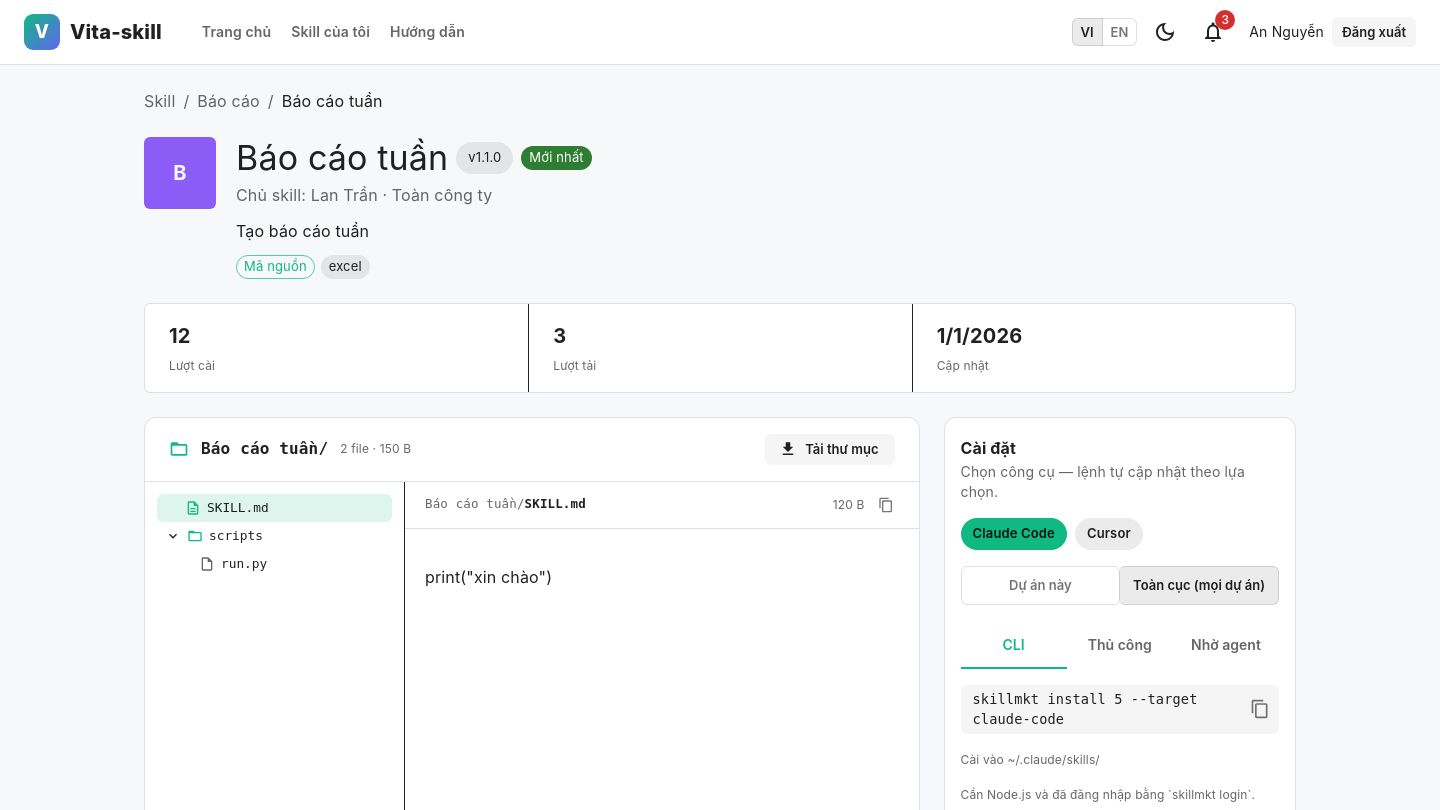
Scenario: SkillDetailPage › đổi tab công cụ và nhớ lựa chọn
Click the tab "Cursor".
click(1109, 534)  # box [1075,518,1143,550]
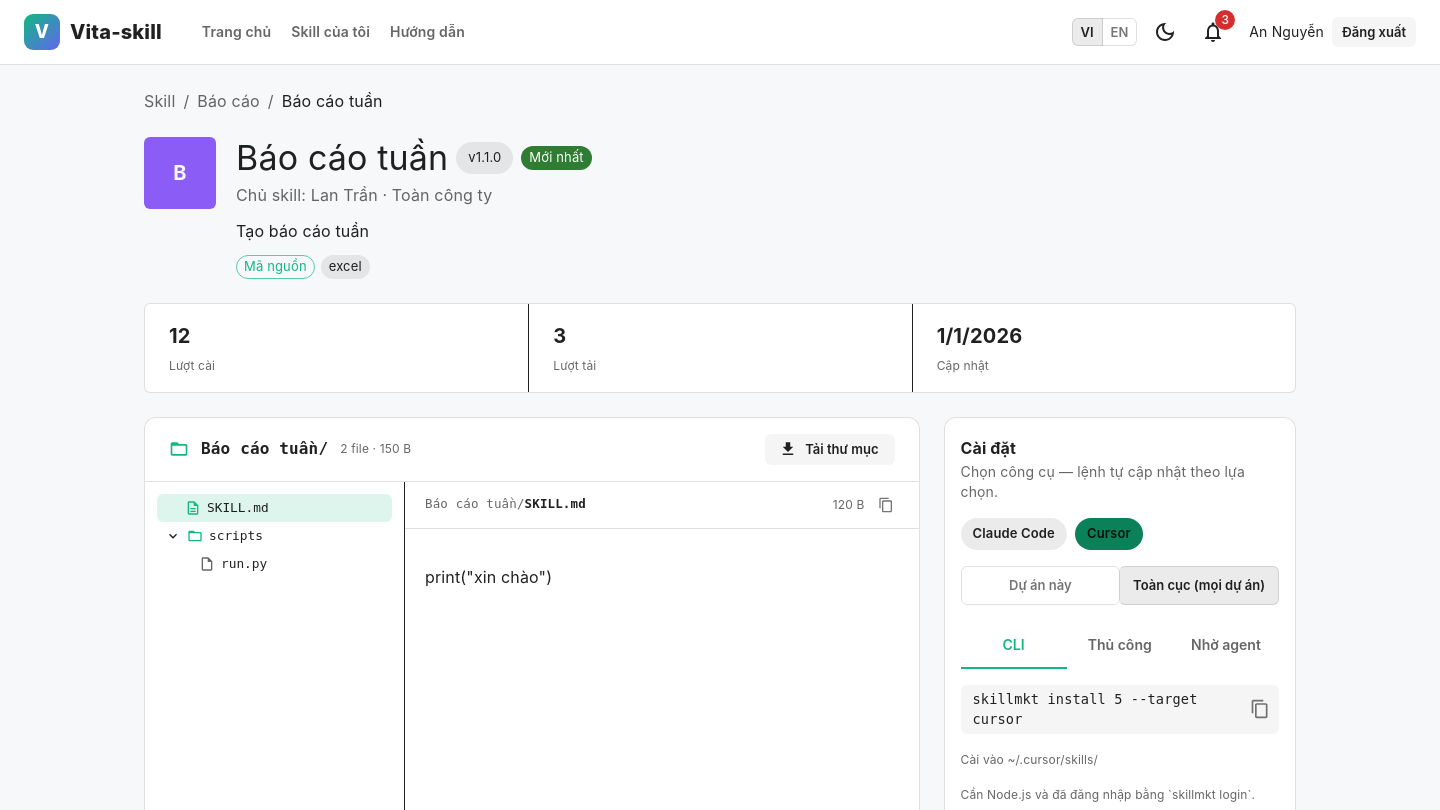
Result: the text with test id "install-command" shows "--target cursor" at [972,691,1198,727]
